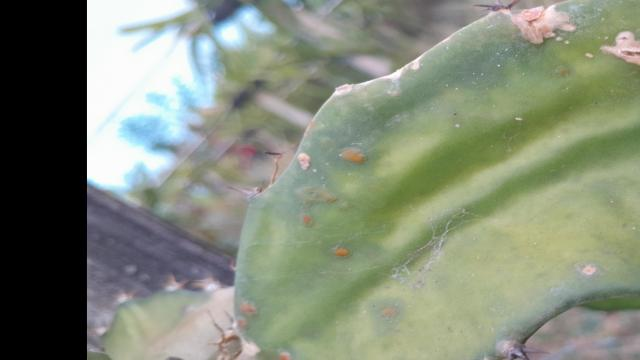stemcanker: (365, 297, 409, 328), (295, 181, 341, 208), (333, 143, 376, 170), (330, 240, 356, 262), (571, 261, 599, 279)
